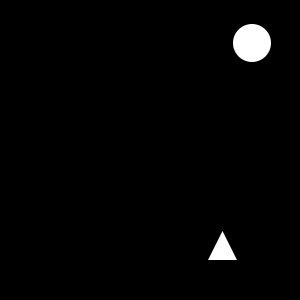rectangle: (233, 24, 271, 62)
triangle: (208, 231, 237, 260)
